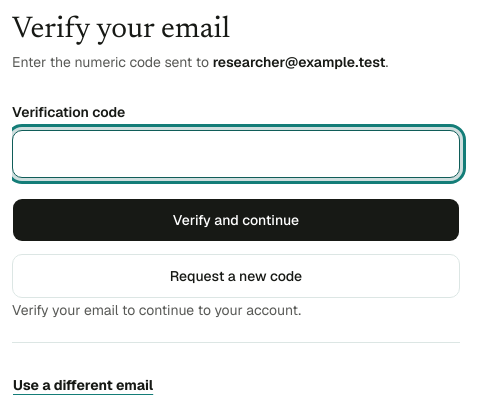
ManagedAuthForm › shows the latest resend response after an earlier verification error
This screenshot has width=483, height=412.
Type "123456" into the field labelled "Verification code".
click(236, 154); type("123456")  # box [12,130,460,178]
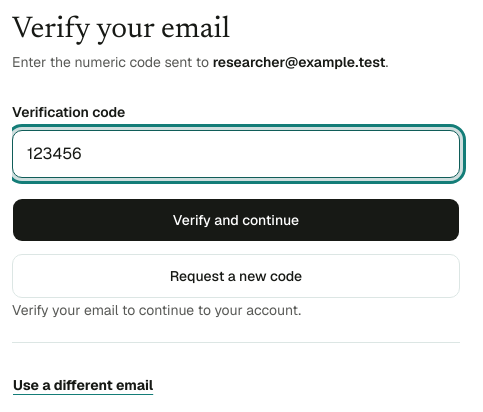
Click the button "Verify and continue".
click(236, 220)  # box [12,198,460,242]
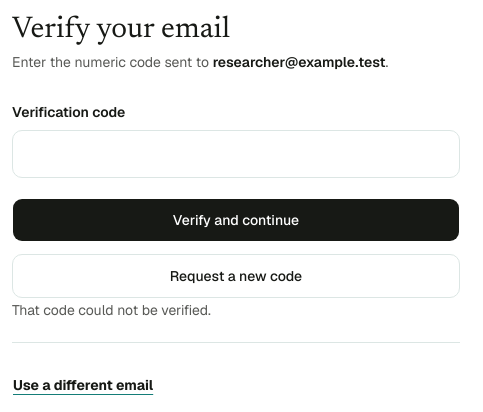
Expected: the text "That code could not be verified." is shown, [12,300,211,318]
Click the button "Request a new code".
click(236, 276)  # box [12,254,460,298]
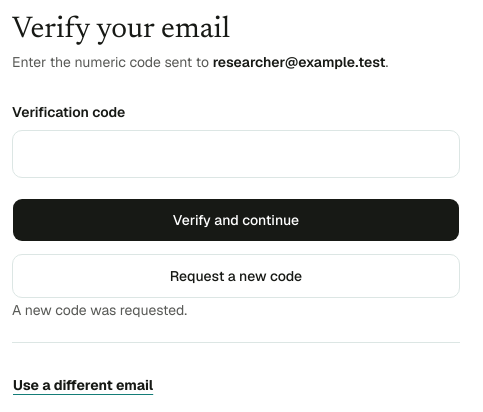
Expected: the text "A new code was requested." is shown, [12,300,187,318]
Expected: the text "That code could not be verified." is gone
